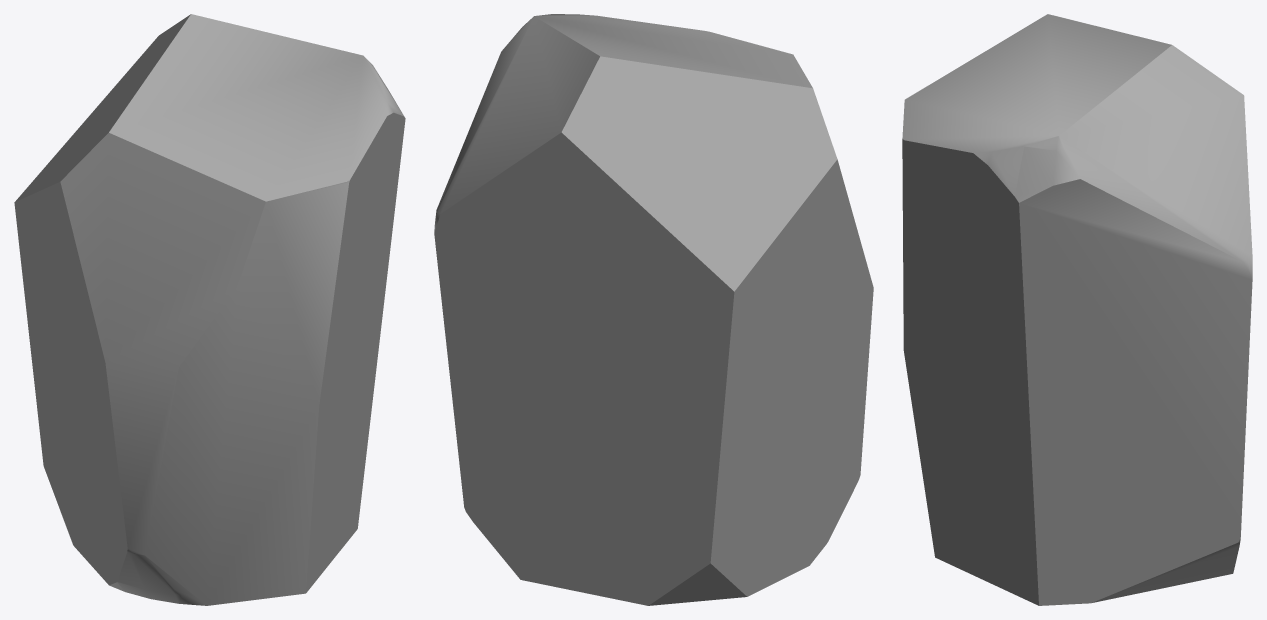
Rendered from RockBig_1.fbx.
The picture shows the model from 3 angles, left to right: view 1: azimuth 30°, elevation 25°; view 2: azimuth 150°, elevation 25°; view 3: azimuth 270°, elevation 25°; orthographic projection. The views are drawn at different scales.
Parts seen in each view (by area): view 1: Sphere; view 2: Sphere; view 3: Sphere.
Boxes of the visible parts, bbox=[...] form: Sphere: bbox=[14, 14, 405, 605]; Sphere: bbox=[434, 14, 873, 605]; Sphere: bbox=[902, 14, 1252, 605].
Bounding box in the file's own units: 414 × 615 × 381.
